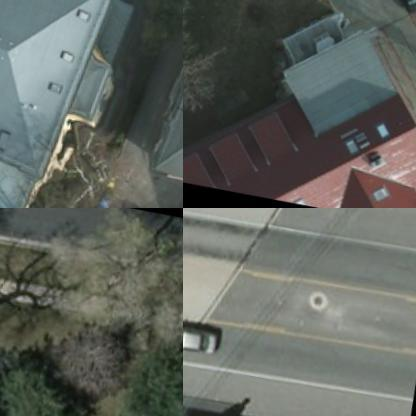car: (183, 318, 216, 357)
